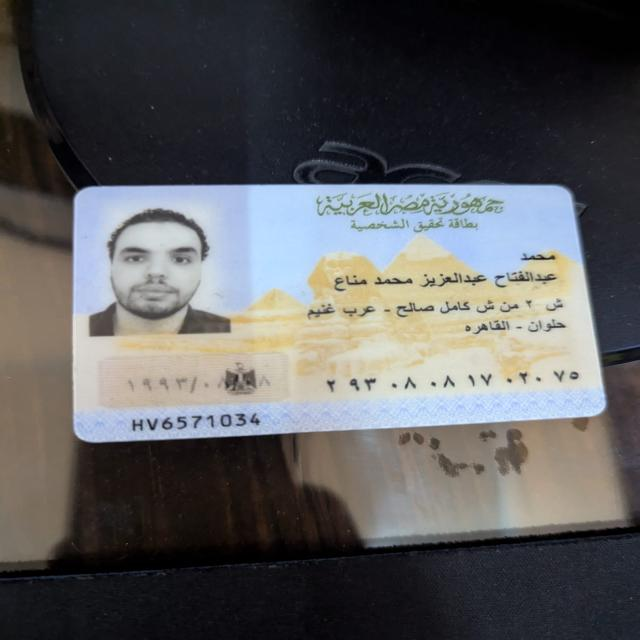ID-cards: (56, 178, 618, 450)
